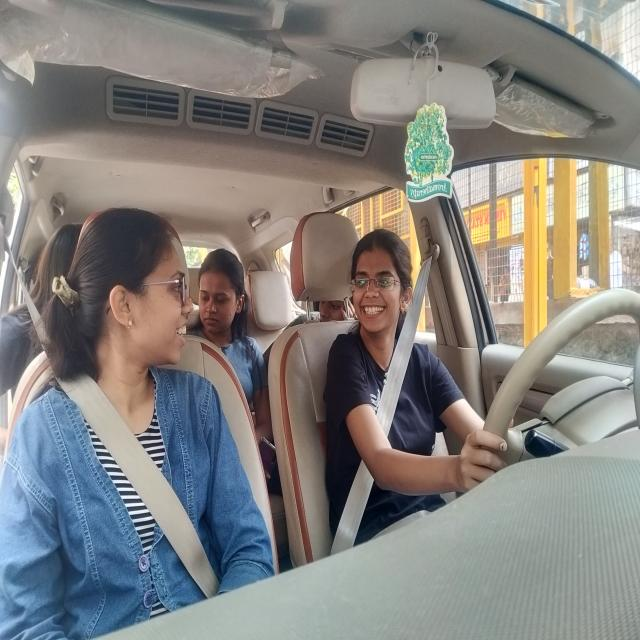person: (75, 205, 195, 384), (200, 245, 248, 358), (307, 296, 346, 318)
talking: (170, 321, 195, 351), (362, 300, 386, 321)
